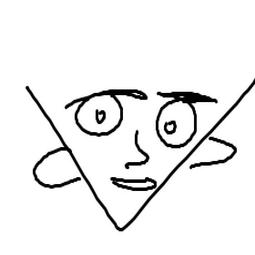ear: (187, 130, 244, 172), (30, 146, 78, 190)
eye: (71, 91, 122, 138), (152, 98, 198, 150)
nose: (122, 129, 152, 167)
open_mouth: (110, 175, 159, 196)
